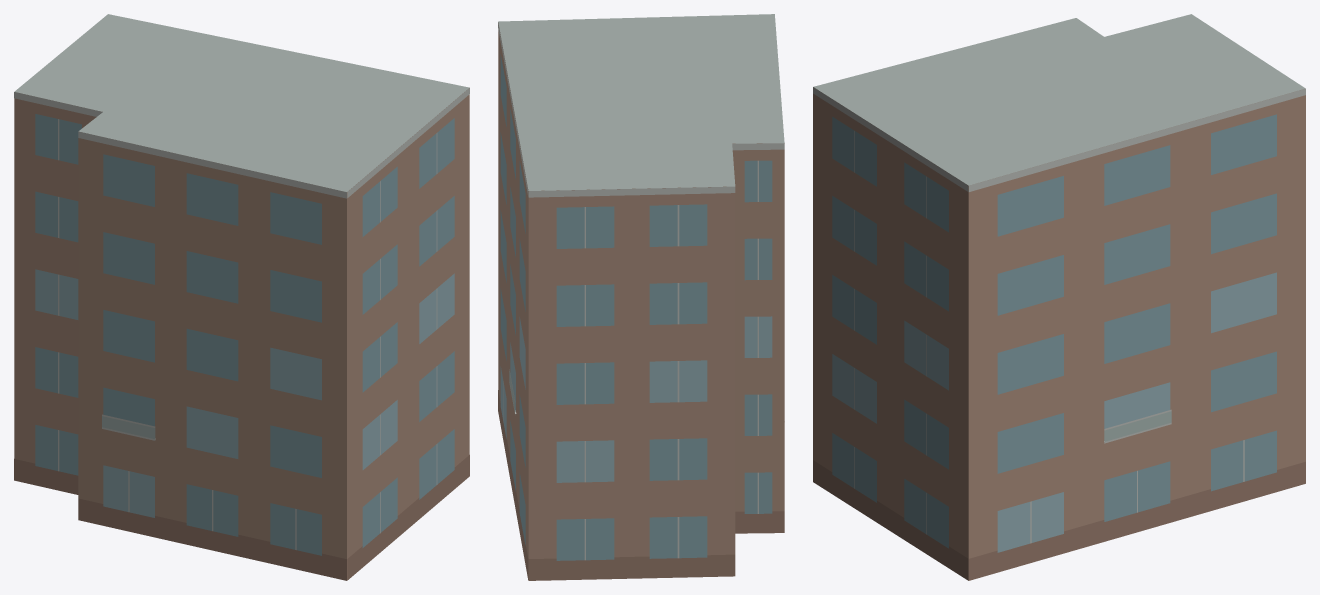
Rendered from survey-upis-32854373.glb.
3 views of the same model, side by side, from view 1: azimuth 30°, elevation 25°; view 2: azimuth 150°, elevation 25°; view 3: azimuth 270°, elevation 25° (orthographic).
Visible parts, largest first — view 1: survey-upis-32854373.tmp; view 2: survey-upis-32854373.tmp; view 3: survey-upis-32854373.tmp.
Boxes of the visible parts, x1=… form: survey-upis-32854373.tmp: x1=14, y1=14, x2=469, y2=580; survey-upis-32854373.tmp: x1=498, y1=14, x2=784, y2=580; survey-upis-32854373.tmp: x1=813, y1=14, x2=1305, y2=580.
Size of the model in its own units: 13.56 by 14.55 by 16.45.
